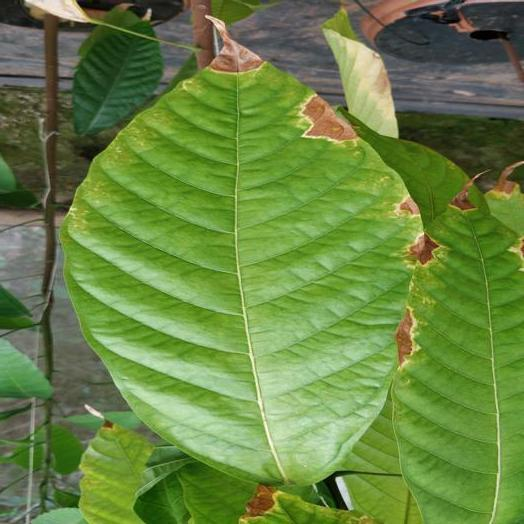Potassium: (63, 34, 425, 483), (392, 189, 523, 523), (239, 487, 371, 523)
